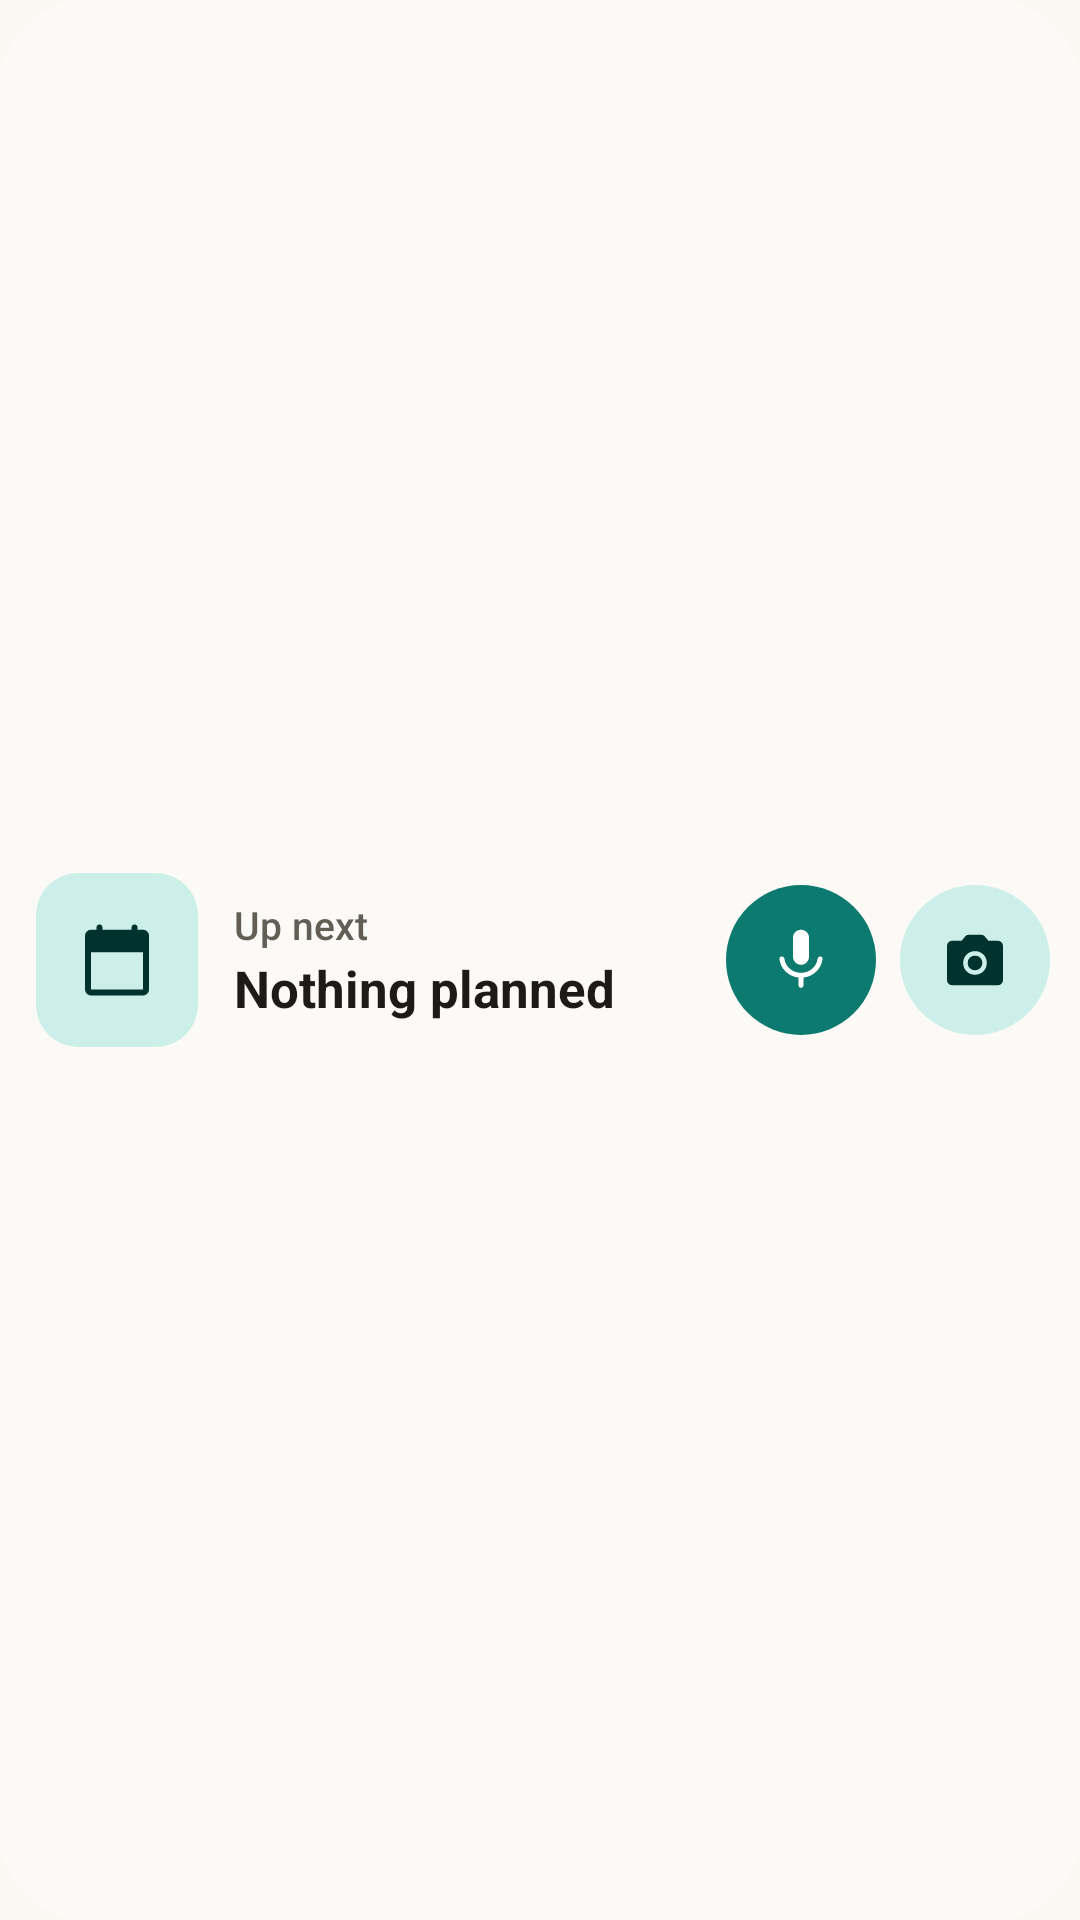

Named icons in this screenshot (1080 × 1920) and their bounding boxes, bbox(x1, y1, x2, y2):
calendar: bbox(85, 924, 149, 996)
camera: bbox(900, 885, 1050, 1035)
mic: bbox(726, 885, 876, 1035)
